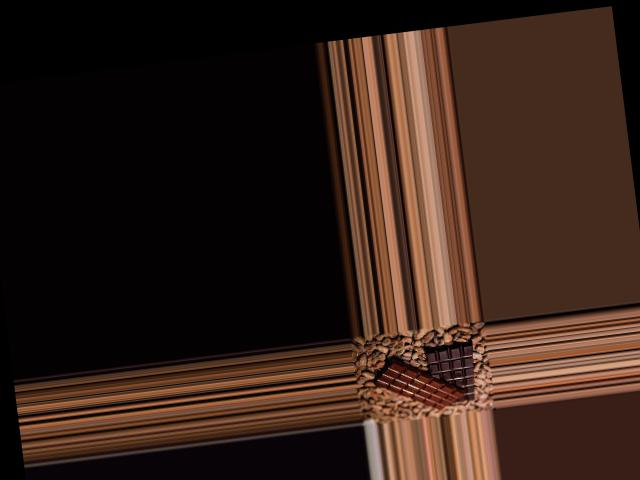chocolate: (424, 337, 485, 408)
